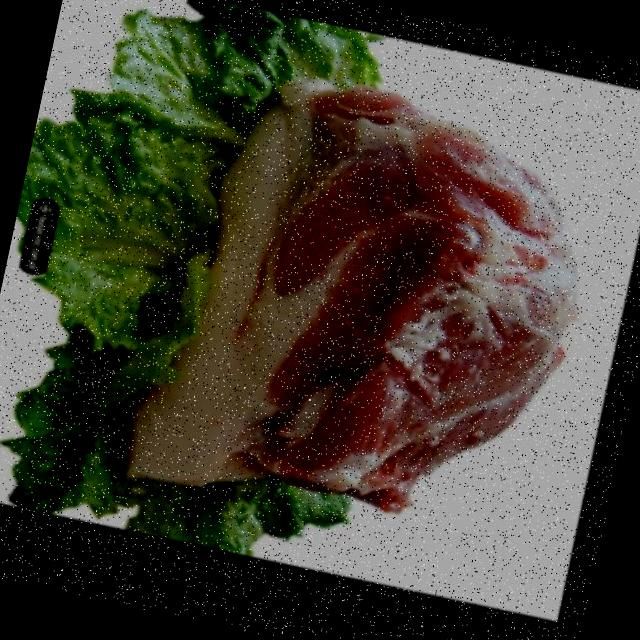pork: (86, 47, 611, 564)
